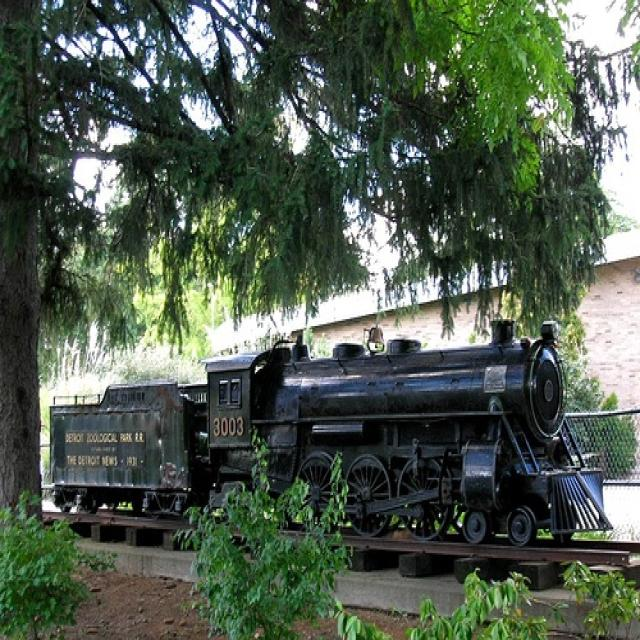train: (41, 319, 614, 548)
